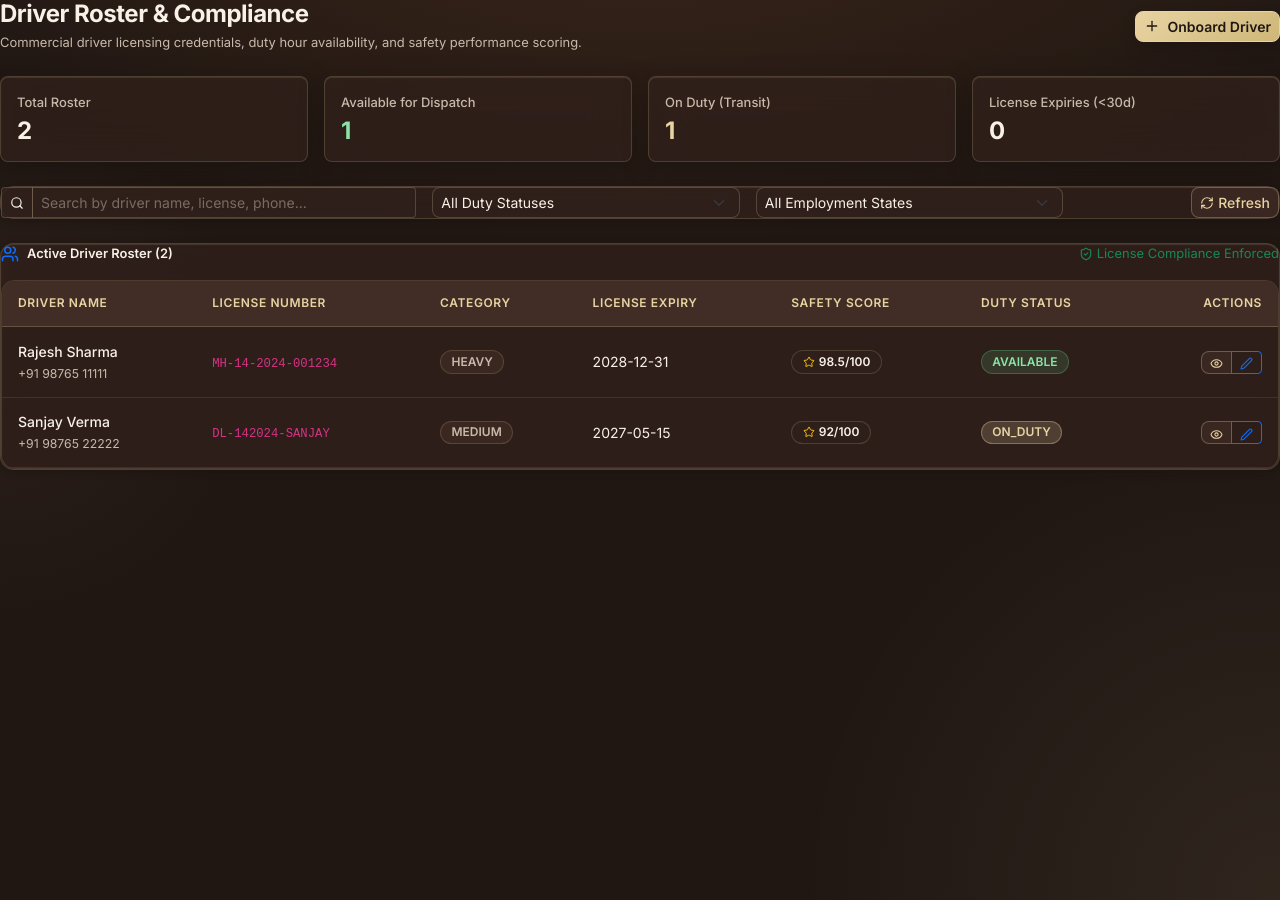
Test case: Driver & Trip Operations Frontend Components › DriversPage › opens Onboard Driver modal when Onboard Driver button is clicked
Check: the text "Rajesh Sharma" is shown, box top-left (18, 343), bottom-right (118, 360)
Click the button "Onboard Driver" at [1207, 26], box top-left (1134, 11), bottom-right (1279, 42)
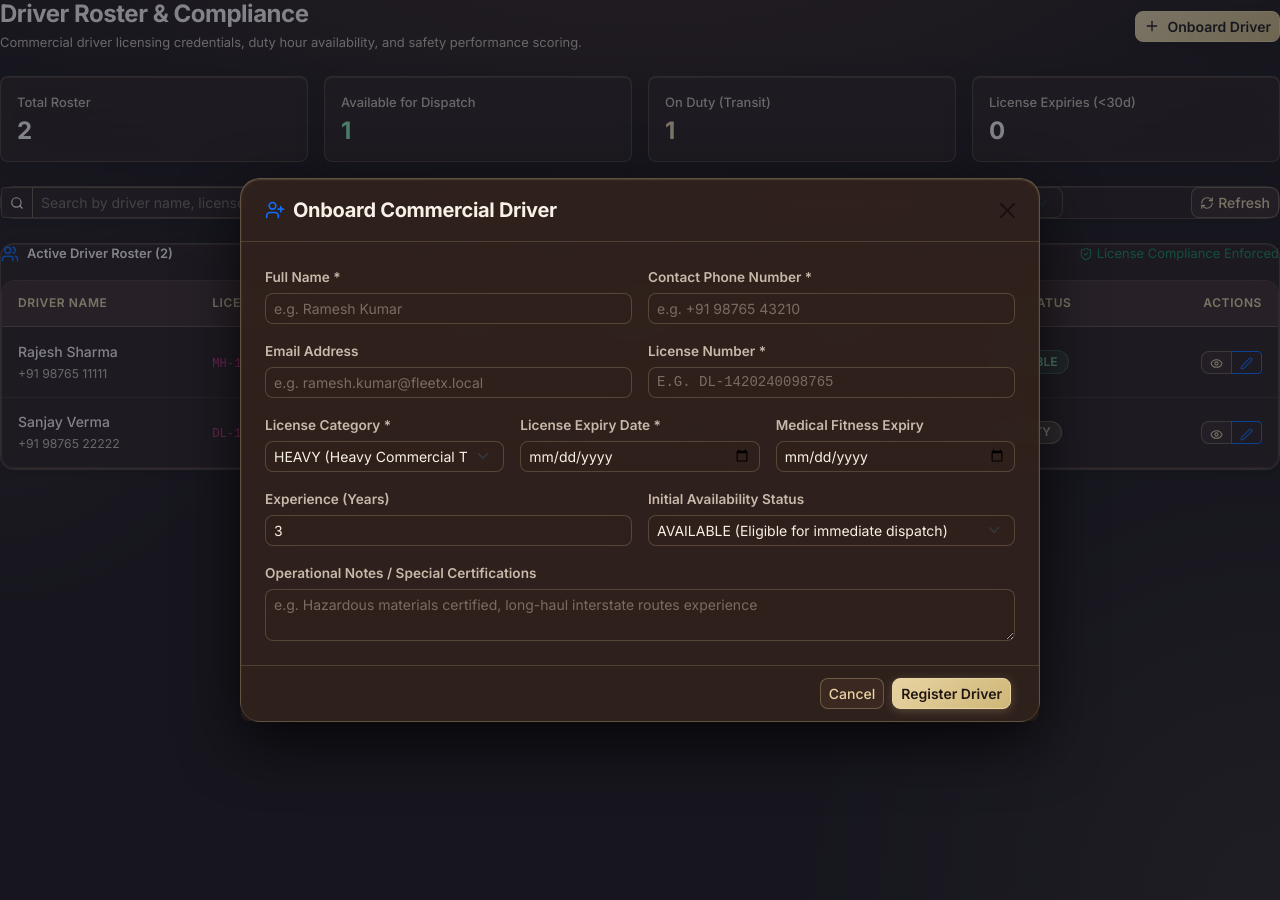
Check: the heading "Onboard Commercial Driver" is shown, box top-left (265, 195), bottom-right (557, 225)
Check: the field with placeholder "e.g. Ramesh Kumar" is shown, box top-left (265, 293), bottom-right (632, 324)
